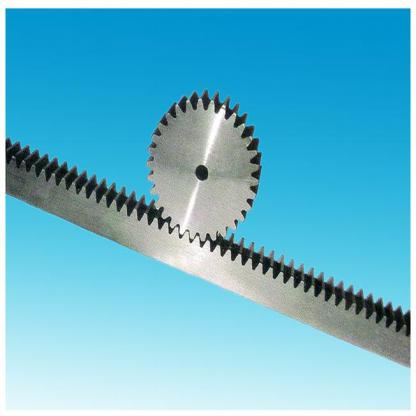FOD: (146, 88, 263, 246)
